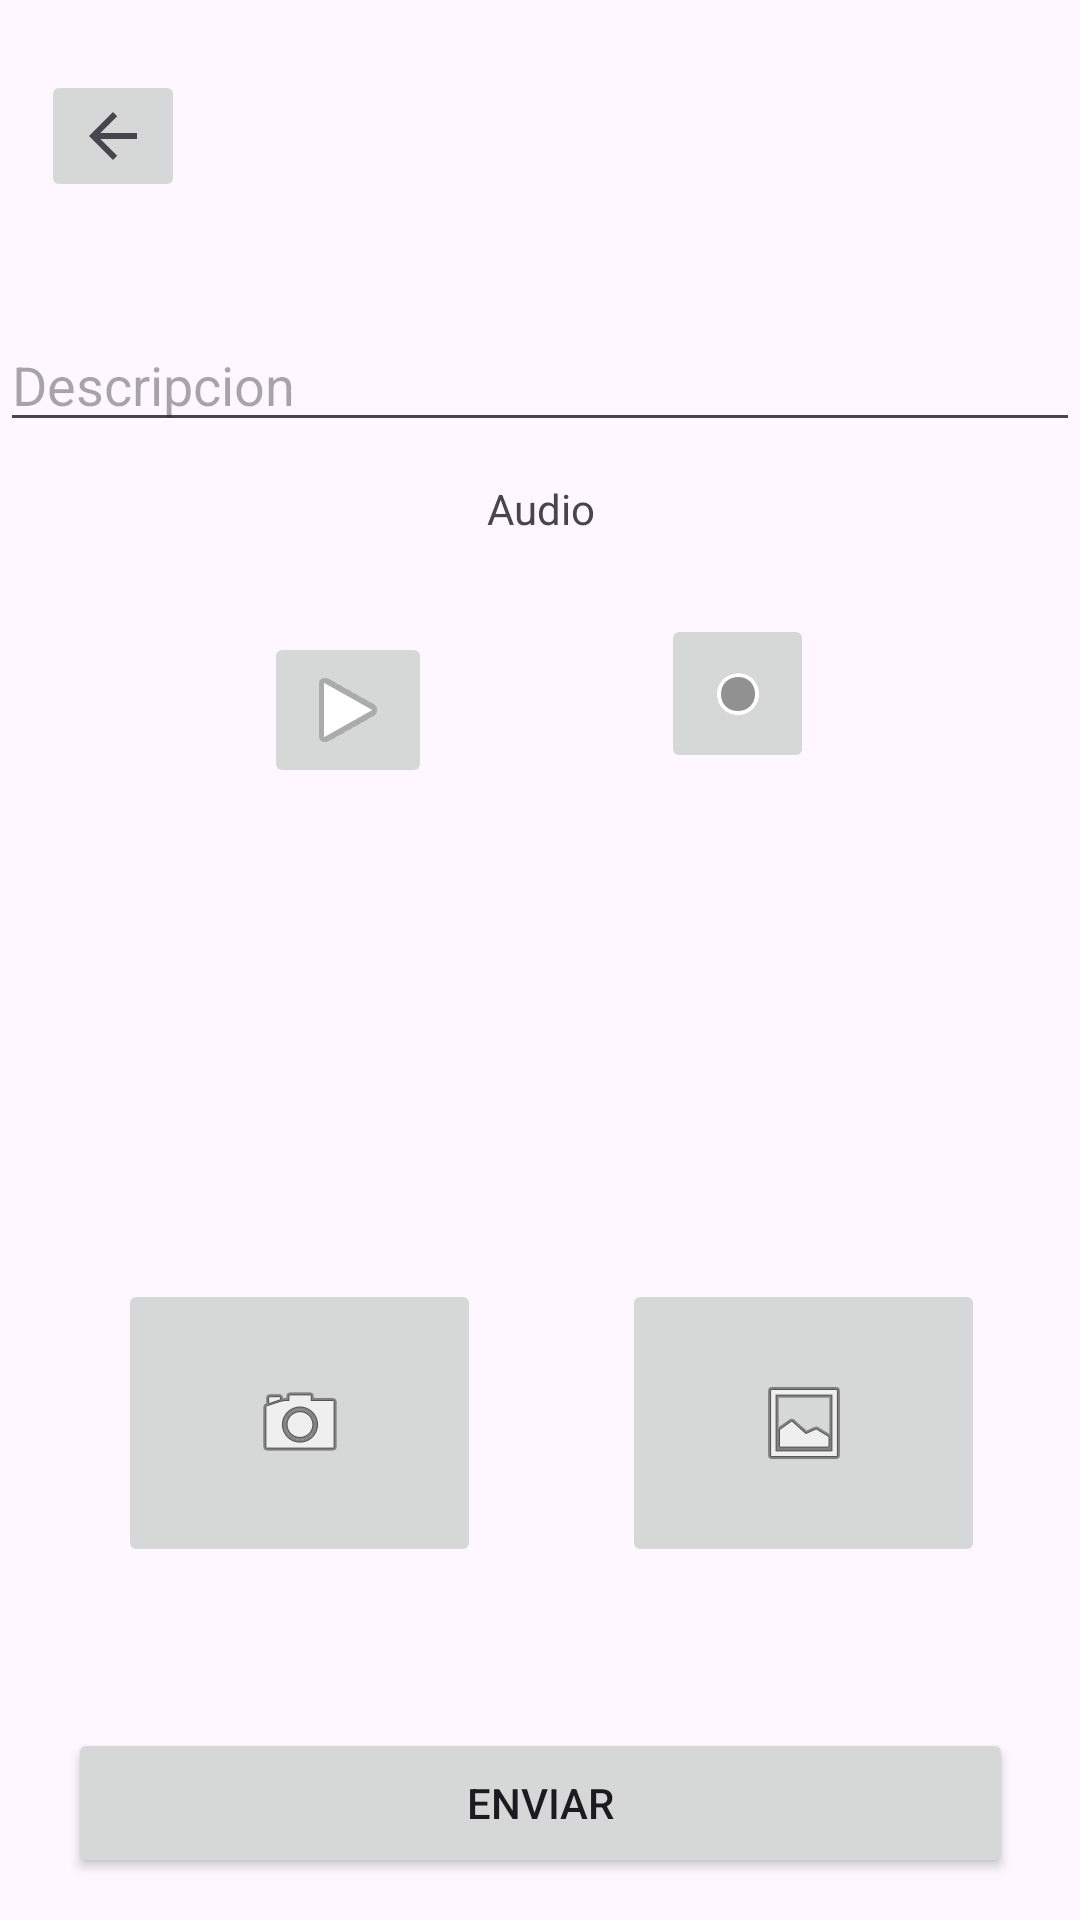

Where icons sit on this 1080px x 1920px app screen, as Rect(x1, y1, x2, y2):
play: Rect(276, 650, 420, 770)
